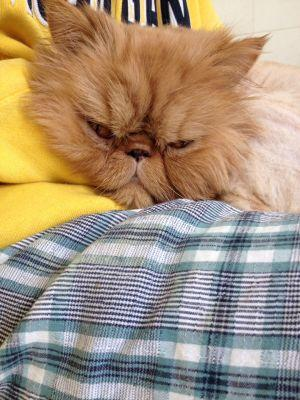persian: (21, 1, 279, 219)
